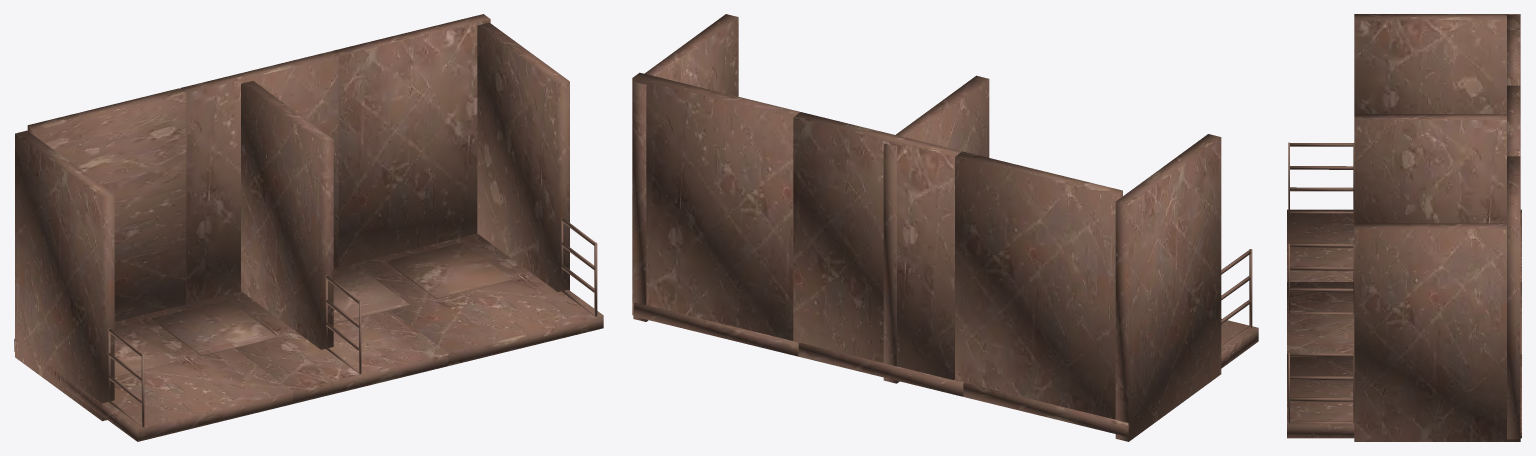
Rendered from Wall_10.glb.
3 renders of one model, left to right at view 1: azimuth 30°, elevation 25°; view 2: azimuth 150°, elevation 25°; view 3: azimuth 270°, elevation 25°, orthographic. The views are drawn at different scales.
Parts seen in each view (by area): view 1: Wall_10; view 2: Wall_10; view 3: Wall_10.
Boxes of the visible parts, x1=… form: Wall_10: x1=14, y1=14, x2=603, y2=441; Wall_10: x1=632, y1=14, x2=1258, y2=441; Wall_10: x1=1287, y1=14, x2=1521, y2=441.
Bounding box in the file's own units: 16.08 × 7.51 × 7.34.
1 material, 1 textured.
